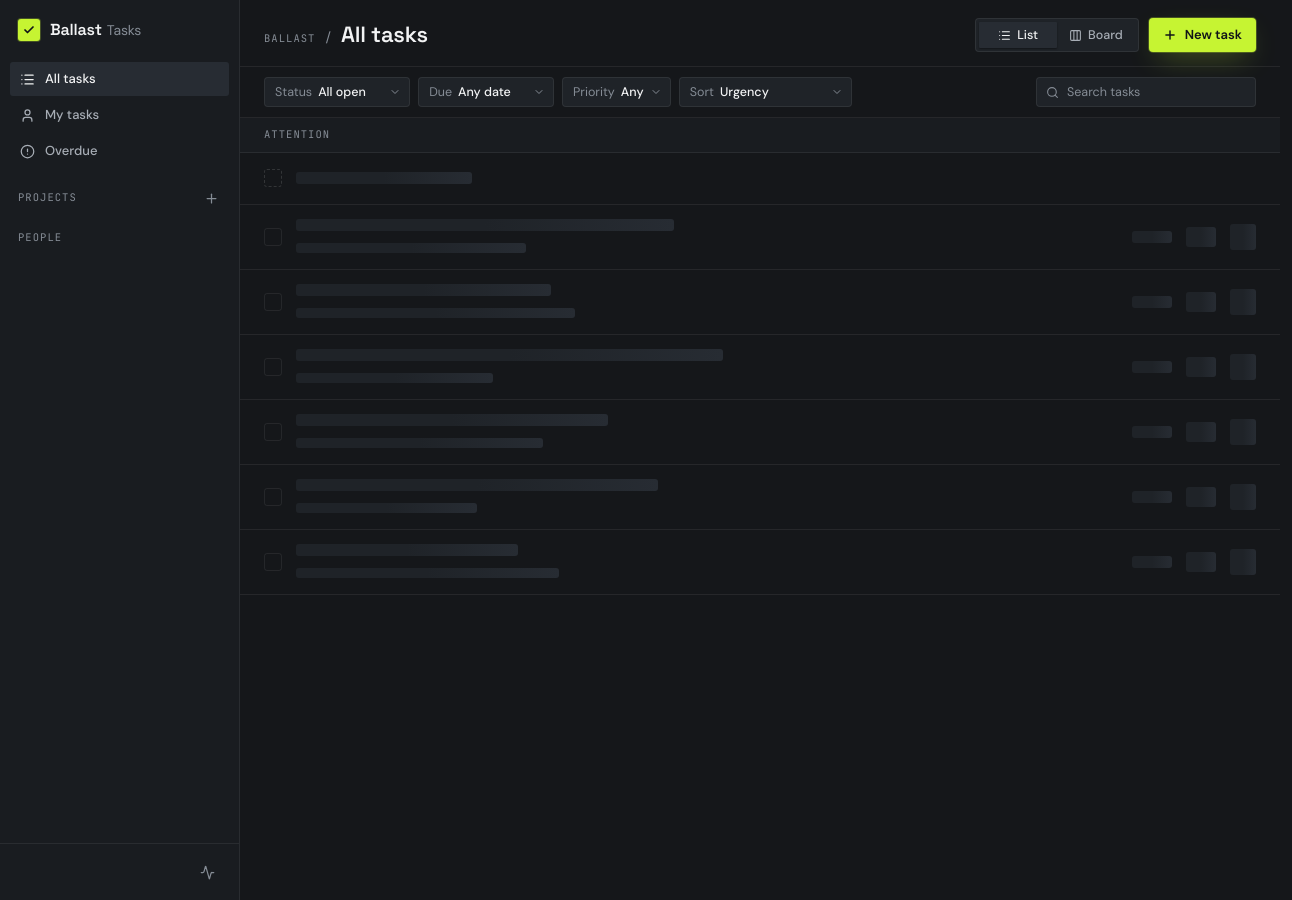
Test: columns › says Drop tasks here in a column the filters leave empty
The width and height of the screenshot is (1292, 900).
Click the radio button "Board": [1096, 35] box [1069,27,1123,43]
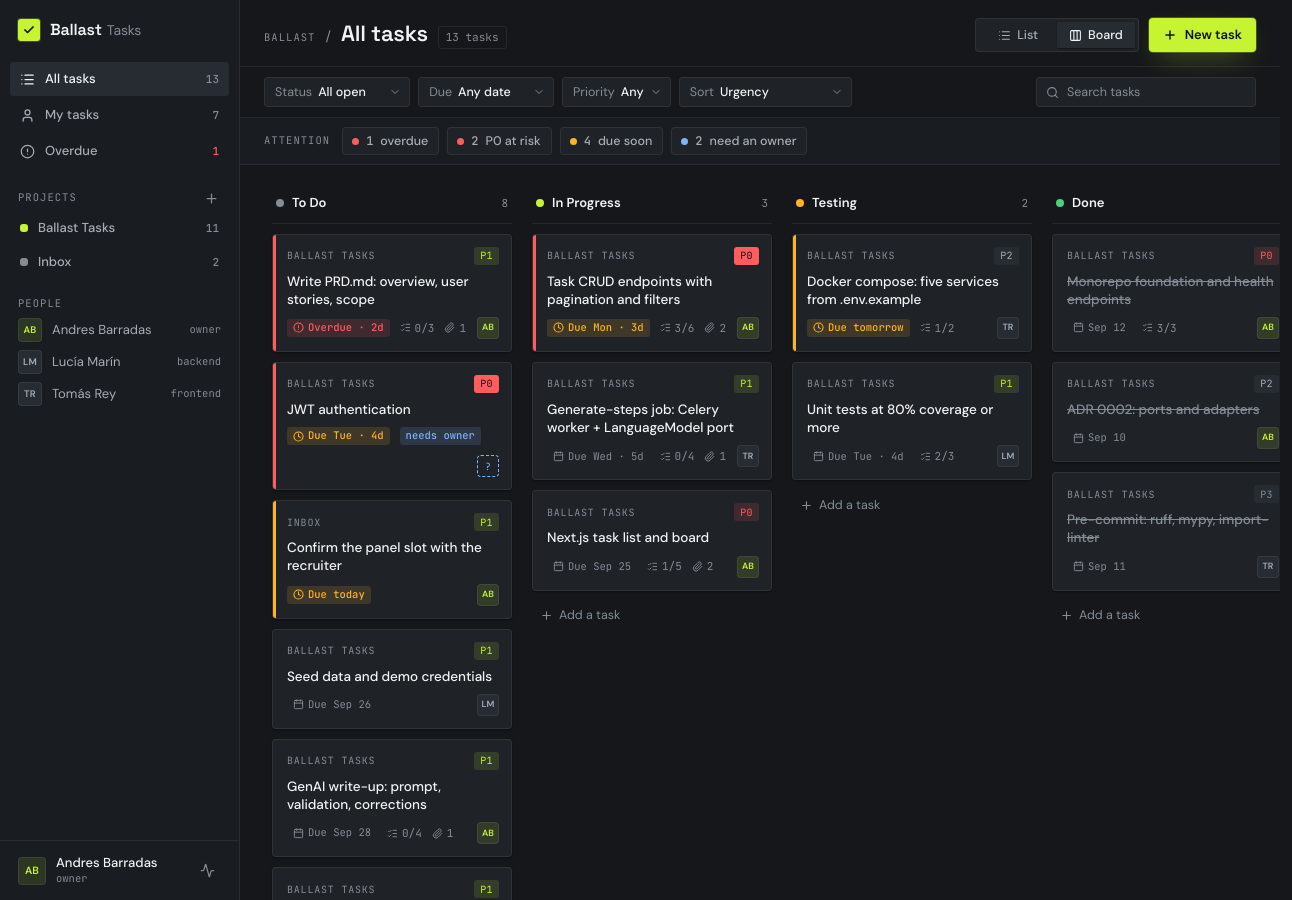
Check: the text "Drop tasks here" is not shown
In the search field labelled "Search tasks": [1146, 92] box [1036,77,1256,107], type "docker"
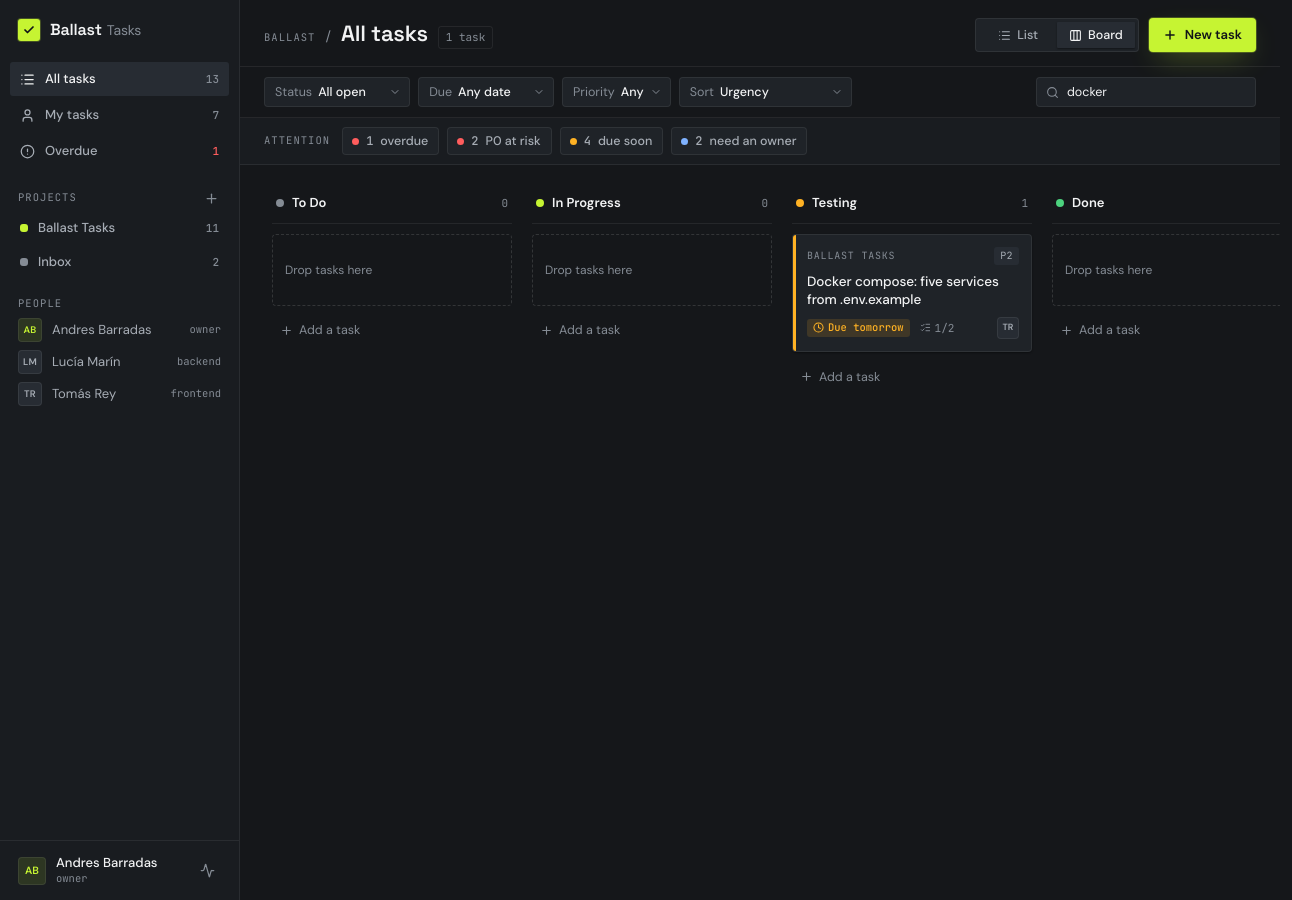
Check: the text "Drop tasks here" below "To Do" is shown, box [285,262,372,278]
Check: the element with test id "column-count" in the row of "To Do" reads "0", box [501,196,508,210]
